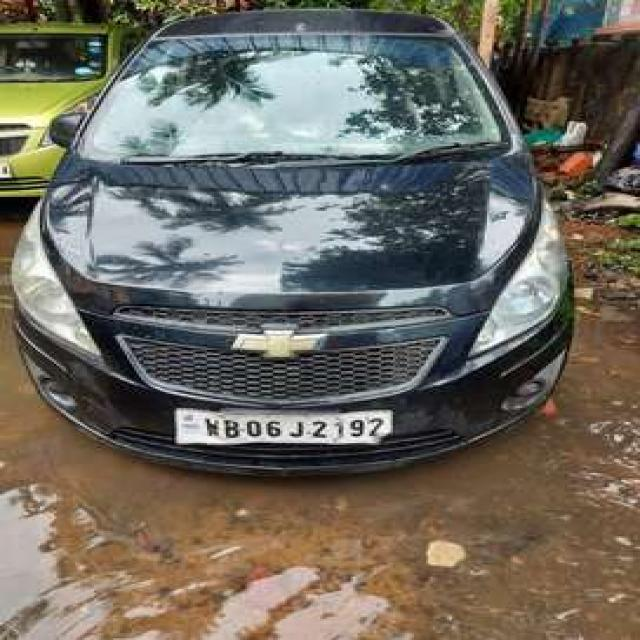Plate: (171, 406, 390, 443)
